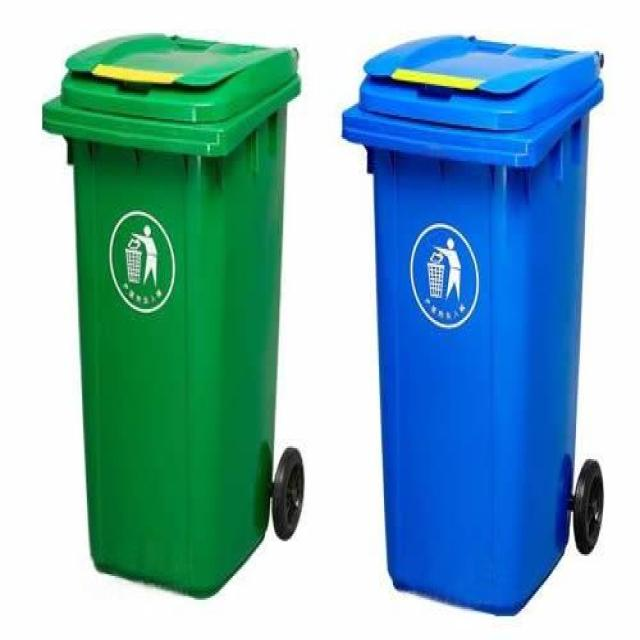garbage_bin: (342, 31, 603, 614), (41, 29, 301, 598)
